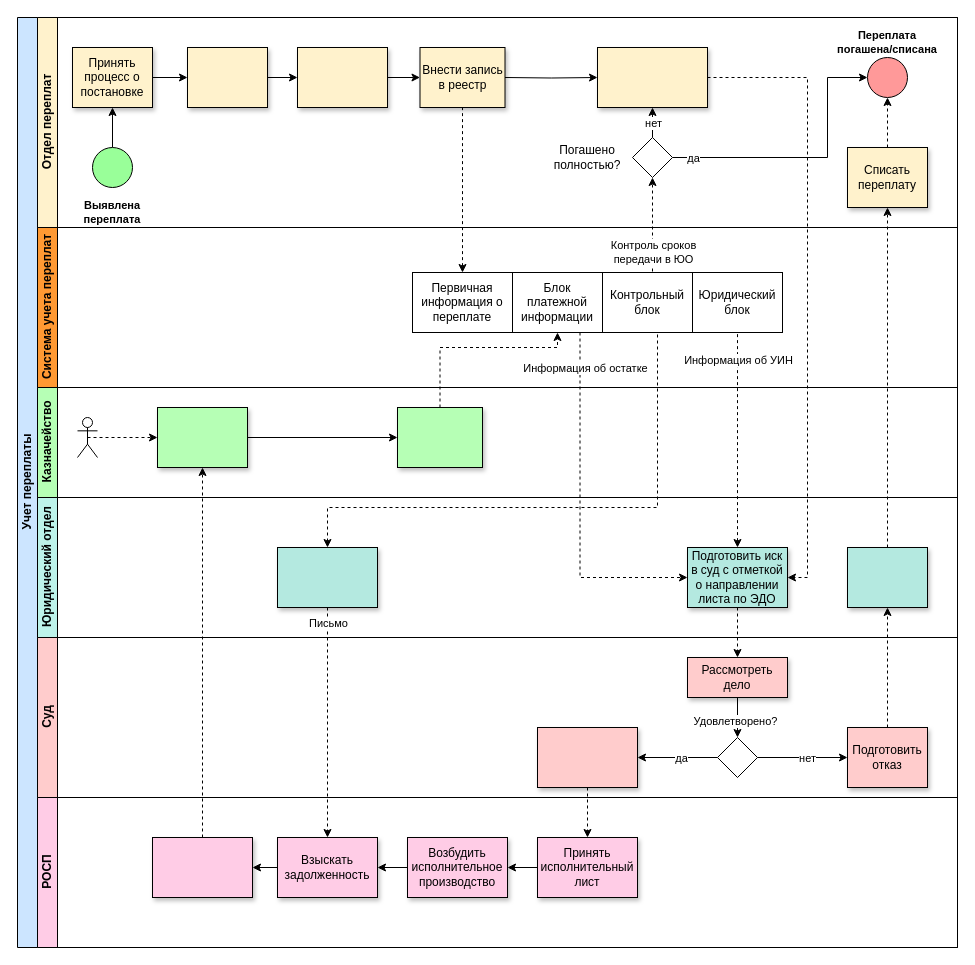
This 975x965 diagram has some shape labels left out. Here are the shapes that lost their labels. From the top down, the centre of each, then its label:
the point at 228,78: Рассчитать переплату
the point at 343,78: Сформировать уведомление должнику
the point at 653,78: Подготовить пакет документов в суд
the point at 87,437: Должник
the point at 203,438: Принять платеж
the point at 440,438: Внести сведения о платеже
the point at 328,578: Контроль поступлений средств из РОСП
the point at 888,578: Принять решение суда
the point at 588,758: Направить исполнительный лист (ЭДО)
the point at 203,868: Направить средства взыскателю
